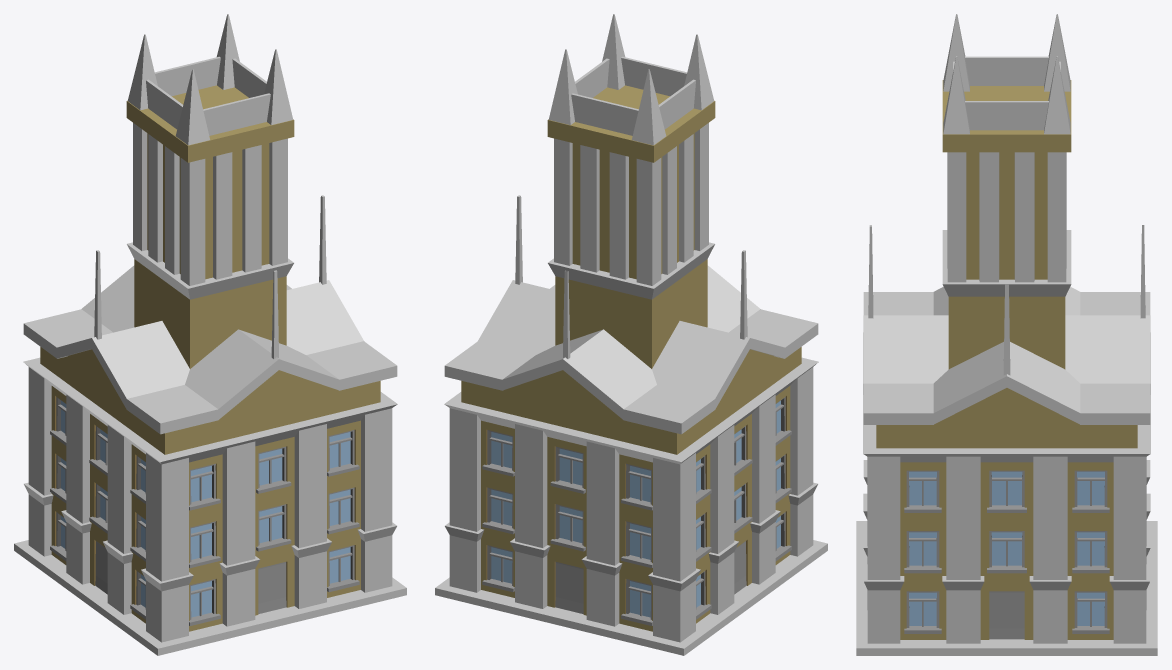
Rendered from house_art_005.fbx.
3 renders of one model, left to right at view 1: azimuth 30°, elevation 25°; view 2: azimuth 150°, elevation 25°; view 3: azimuth 270°, elevation 25°, orthographic. The views are drawn at different scales.
Parts seen in each view (by area): view 1: house_art_005; view 2: house_art_005; view 3: house_art_005.
Boxes of the visible parts, x1,y1,x2,y2 form: house_art_005: (14,14,406,655); house_art_005: (435,14,827,655); house_art_005: (856,14,1157,655).
Bounding box in the file's own units: 1144 × 2330 × 1144.
